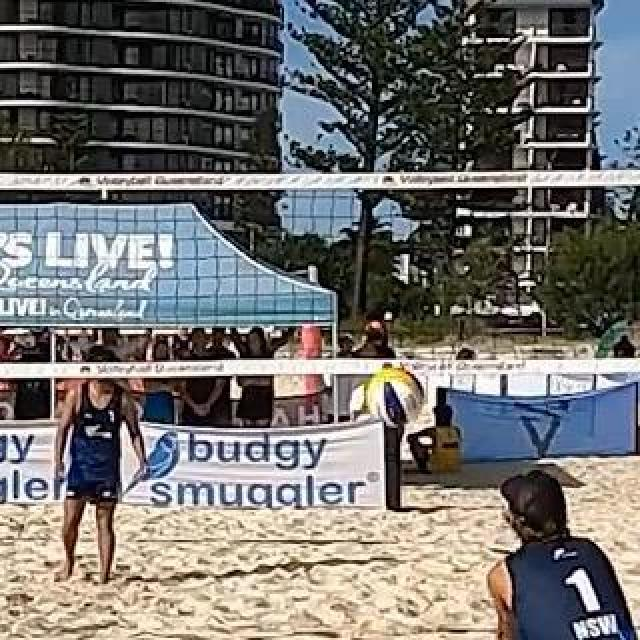volleyball: (362, 368, 426, 426)
